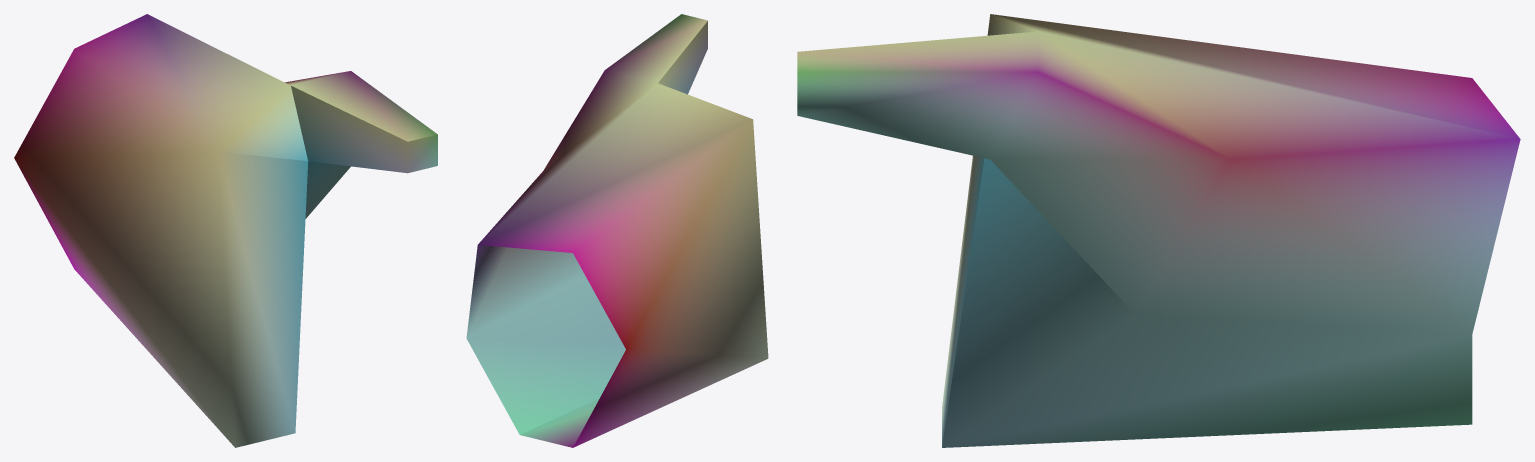
3 renders of one model, left to right at view 1: azimuth 30°, elevation 25°; view 2: azimuth 150°, elevation 25°; view 3: azimuth 270°, elevation 25°, orthographic. The views are drawn at different scales.
Visible parts, largest first — view 1: part; view 2: part; view 3: part.
Boxes of the visible parts, box(x1,y1,x2,y2) form: part: box(14, 14, 437, 447); part: box(466, 14, 768, 447); part: box(797, 14, 1520, 447).
Bounding box in the file's own units: 6 × 10 × 15.
